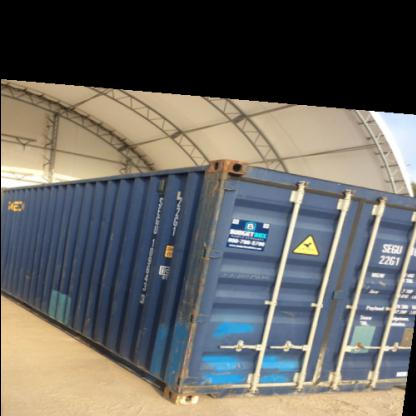Damage: (180, 208, 218, 300), (165, 300, 202, 388), (204, 154, 245, 206), (306, 342, 334, 386), (180, 378, 246, 394)
